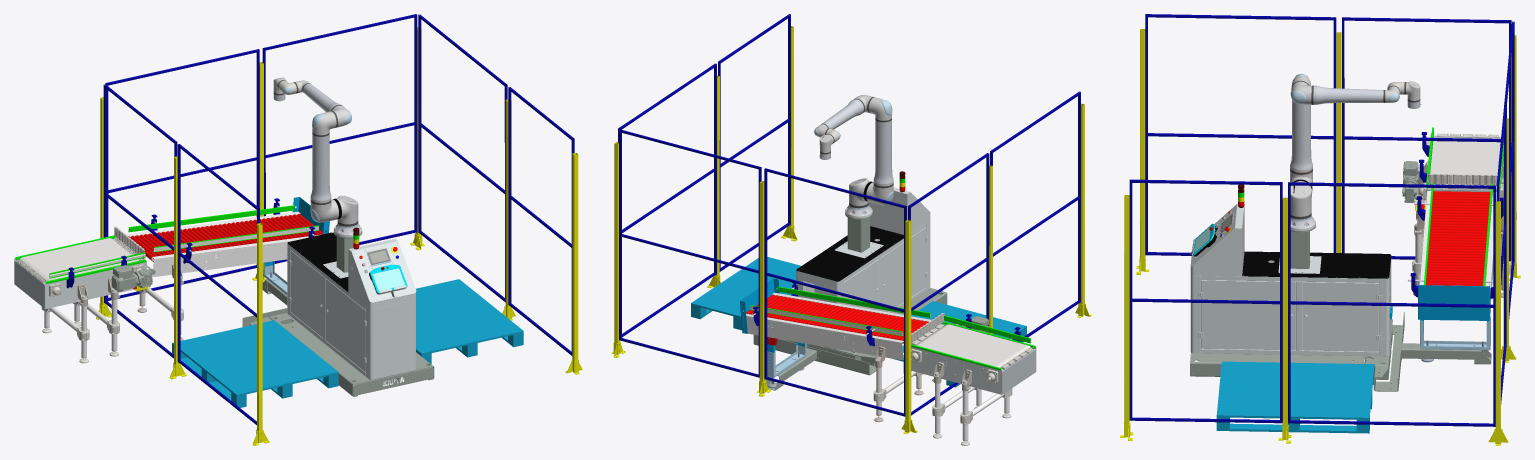
The model's file is 13-base-esteira-90-esquerda-viradora-gradil.glb.
3 renders of one model, left to right at view 1: azimuth 30°, elevation 25°; view 2: azimuth 150°, elevation 25°; view 3: azimuth 270°, elevation 25°, orthographic. The views are drawn at different scales.
Visible parts, largest first — view 1: KAPTA_AR_ORIENTACAO_FINAL; view 2: KAPTA_AR_ORIENTACAO_FINAL; view 3: KAPTA_AR_ORIENTACAO_FINAL.
Boxes of the visible parts, bbox=[...] form: KAPTA_AR_ORIENTACAO_FINAL: bbox=[14, 14, 582, 445]; KAPTA_AR_ORIENTACAO_FINAL: bbox=[611, 14, 1091, 445]; KAPTA_AR_ORIENTACAO_FINAL: bbox=[1120, 14, 1520, 445].
Size of the model in its own units: 4.1 by 2.33 by 3.15.
